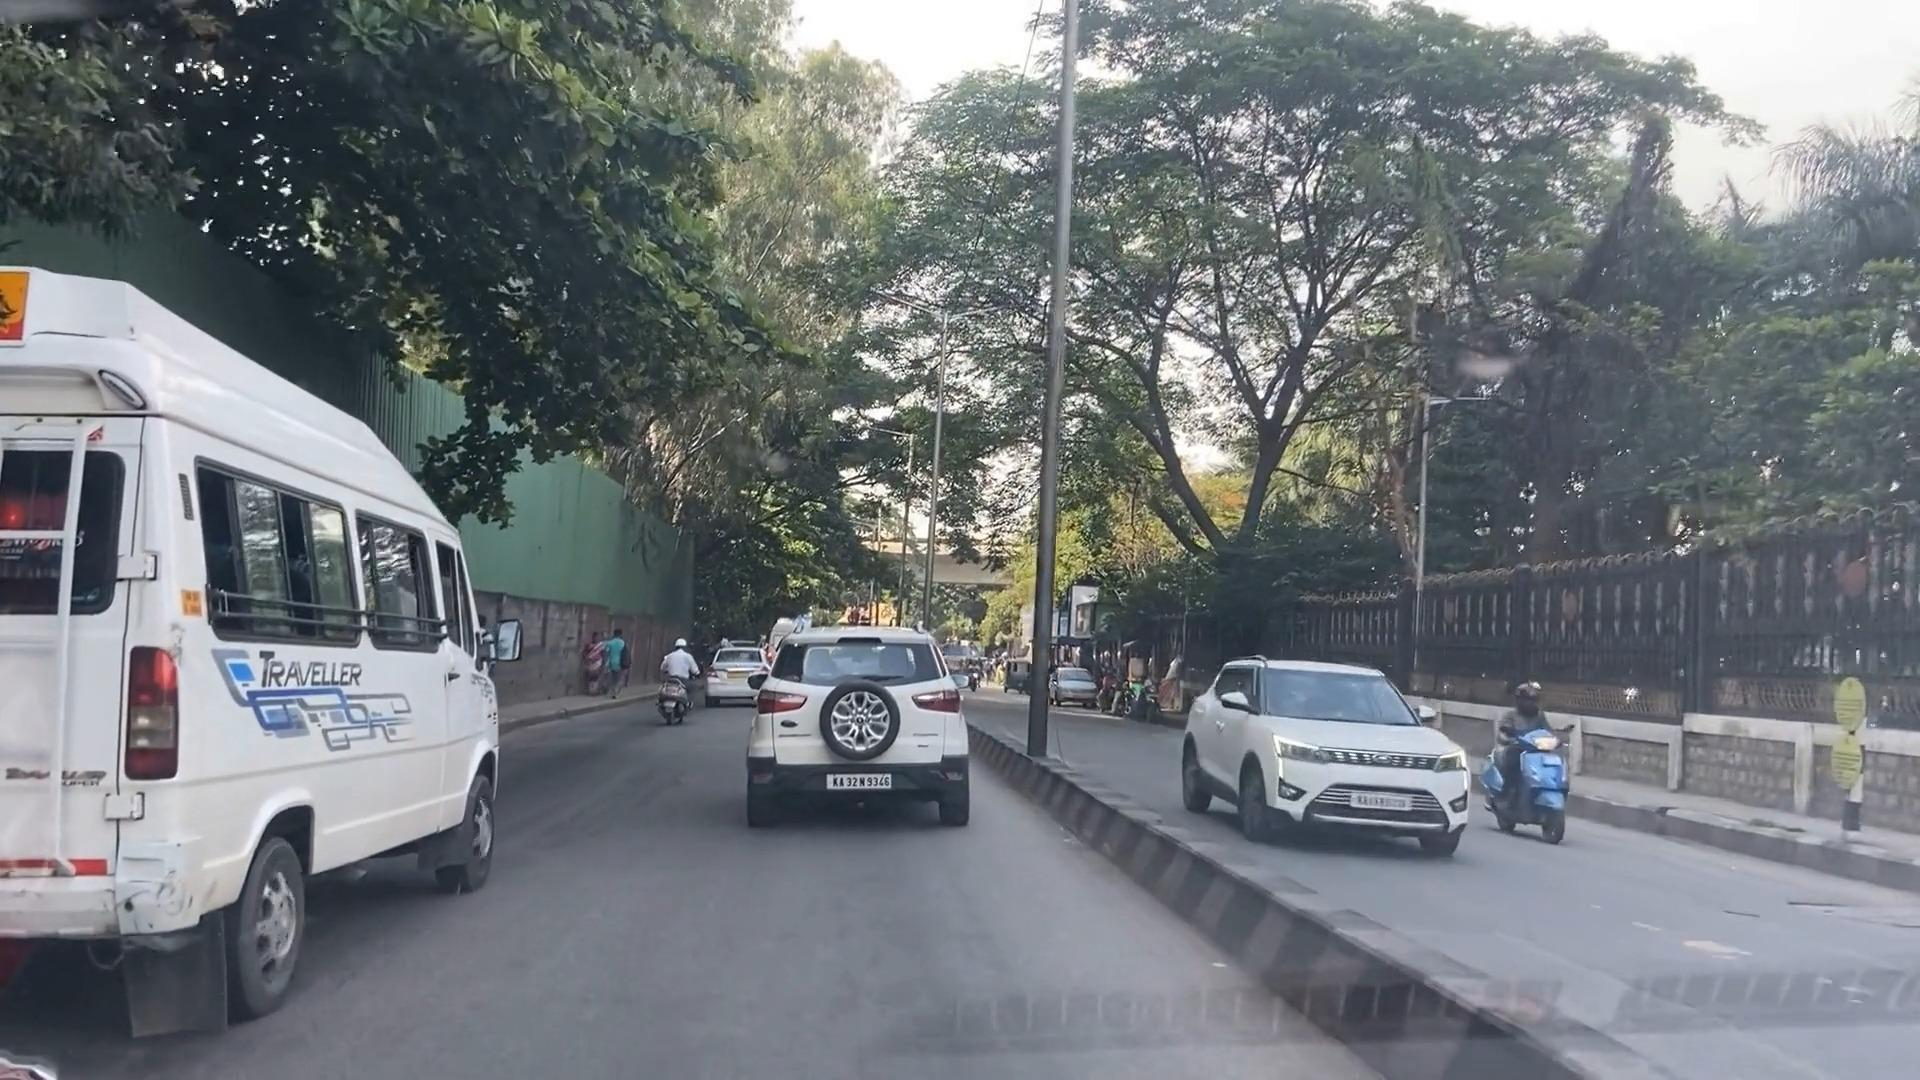HMV: (11, 278, 492, 1060)
LMV: (748, 622, 963, 820)
